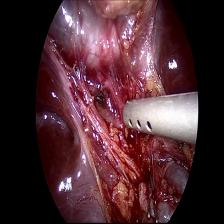Irrigator: (121, 92, 172, 142)
